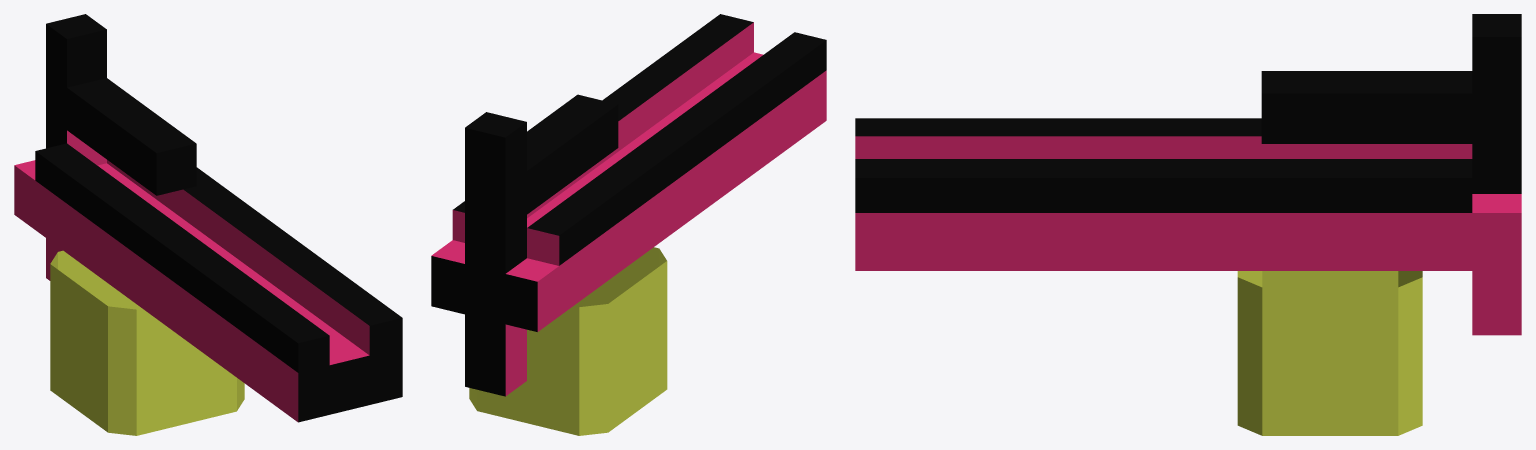
File: can44.fbx
3 views of the same model, side by side, from view 1: azimuth 30°, elevation 25°; view 2: azimuth 150°, elevation 25°; view 3: azimuth 270°, elevation 25° (orthographic). The views are drawn at different scales.
Parts seen in each view (by area): view 1: Cylinder; view 2: Cylinder; view 3: Cylinder.
Part boxes in pixels (x1=…): Cylinder: x1=14, y1=14, x2=402, y2=435; Cylinder: x1=431, y1=14, x2=826, y2=435; Cylinder: x1=855, y1=14, x2=1521, y2=435.
Size of the model in its own units: 59.95 by 133 by 216.
